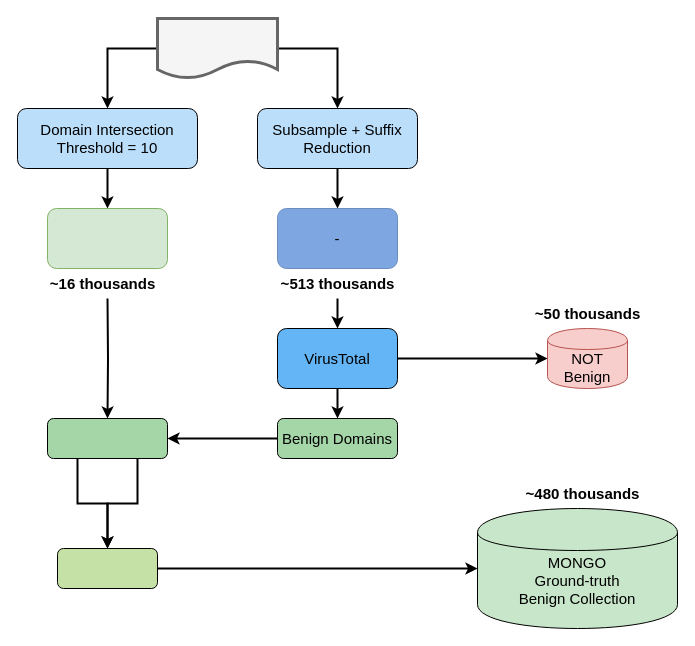
The diagram is 695 pixels wide and 646 high, and some of its shapes have lost their labels. The shapes that lost their labels are listed below. From the top down, each one's centre as x and y in pixels, then its label:
At point 217,48: "CESNET Data".
At point 107,238: "Intersection".
At point 107,438: "Domain Collector".
At point 107,568: "Union".
